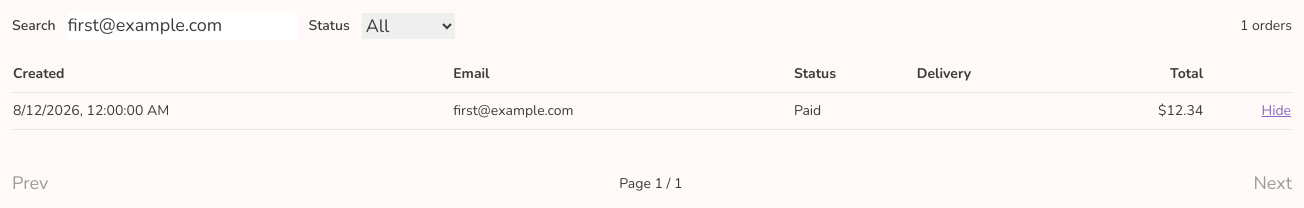
it: OrdersTable search deep links › does not let a slower old search overwrite newer results
Replace the text in the field labelled "Search" with "slow@example.com" at (182, 26), box [68,12,296,40]
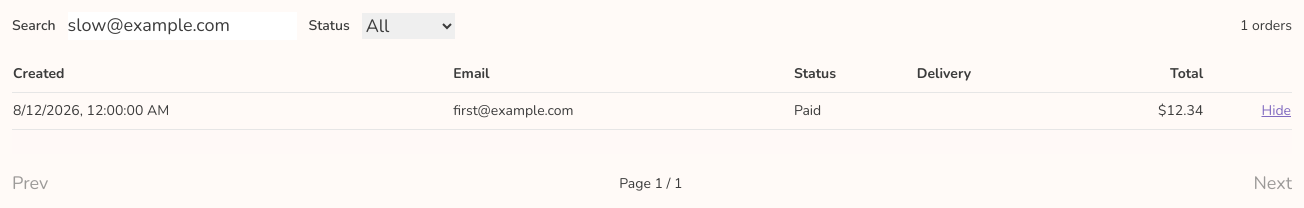
Replace the text in the field labelled "Search" with "second@example.com" at (182, 26), box [68,12,296,40]
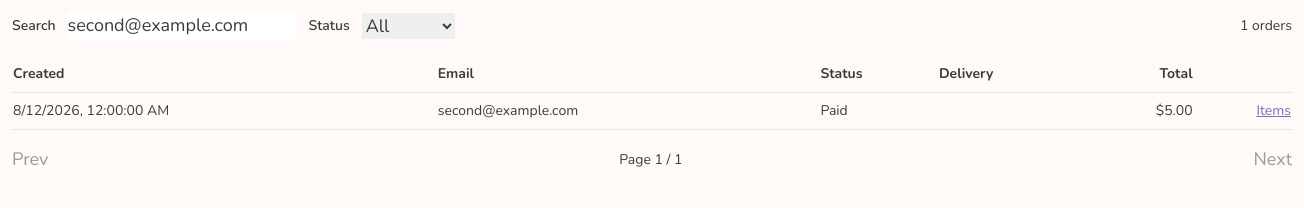
Expected: the text "second@example.com" is shown, [437,92,819,129]
